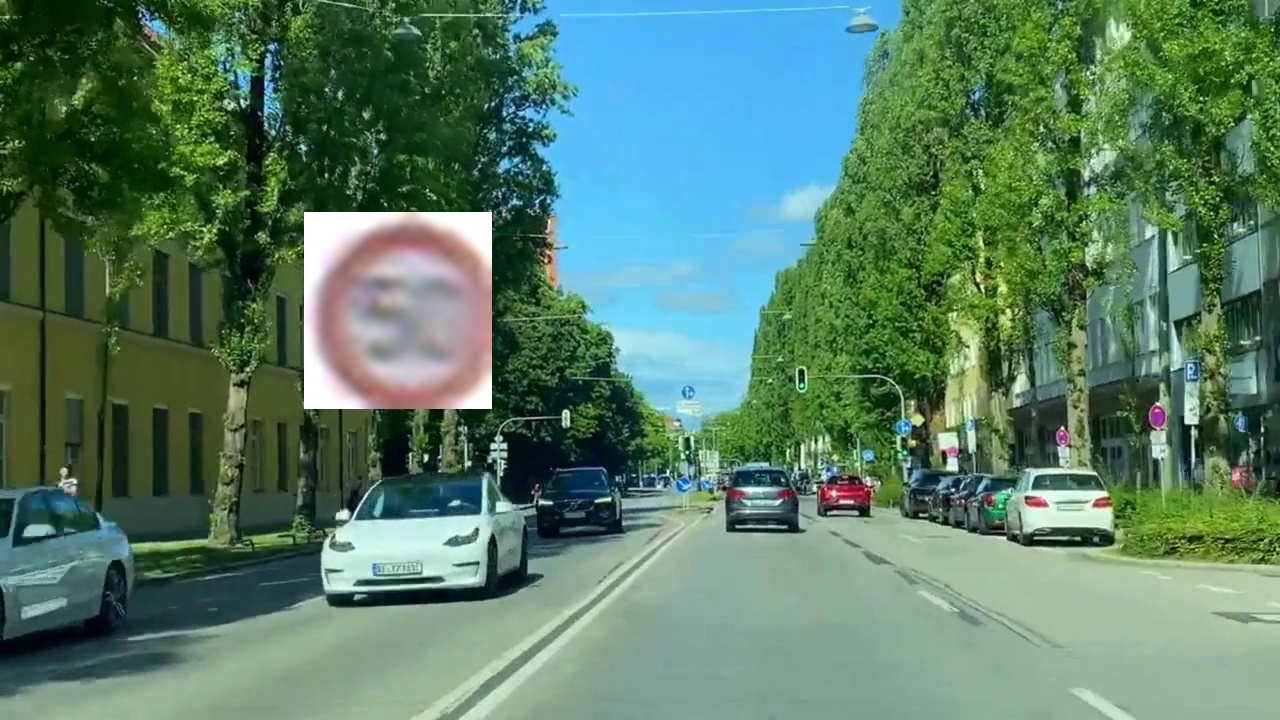Speed 50: (304, 212, 492, 409)
